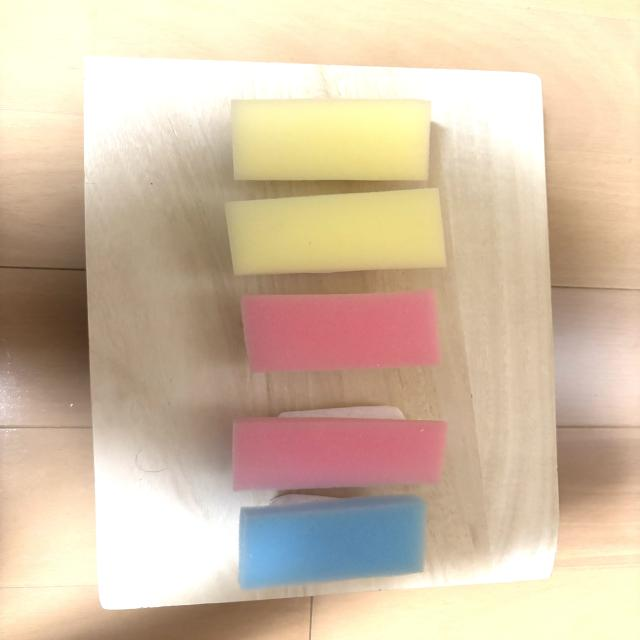ika: (238, 494, 427, 590)
tai: (233, 405, 447, 491), (242, 289, 441, 373)
tamago: (225, 188, 446, 275), (231, 98, 431, 182)
